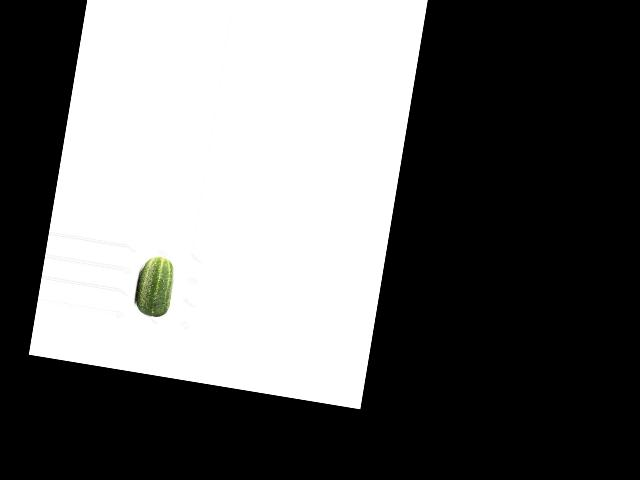cucumber: (132, 254, 176, 319)
